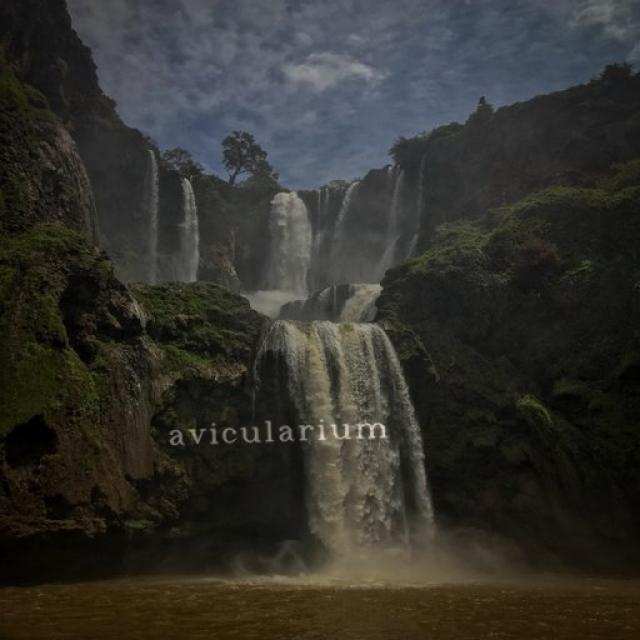watermark: (159, 414, 390, 448)
